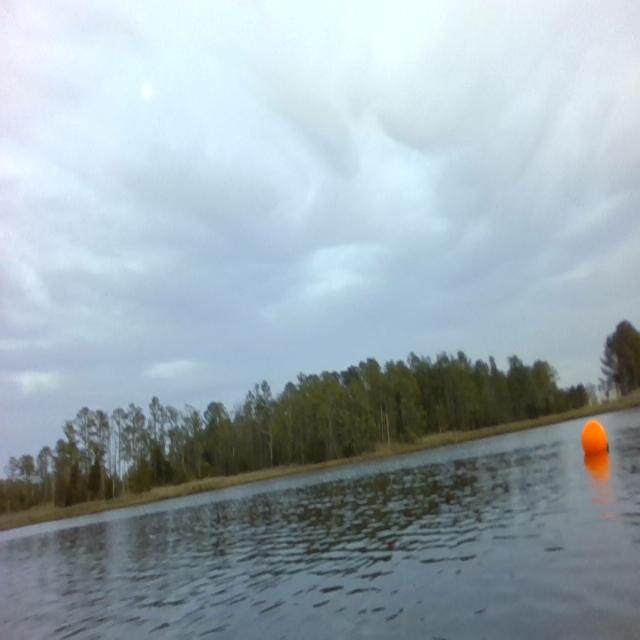Buoy: (580, 416, 610, 460)
